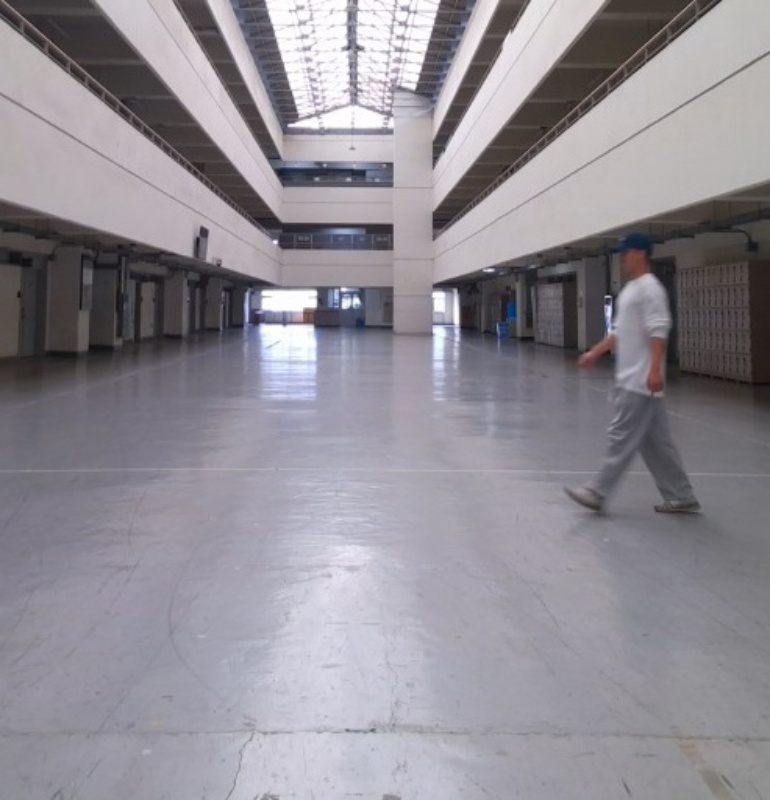person: (562, 230, 703, 514)
